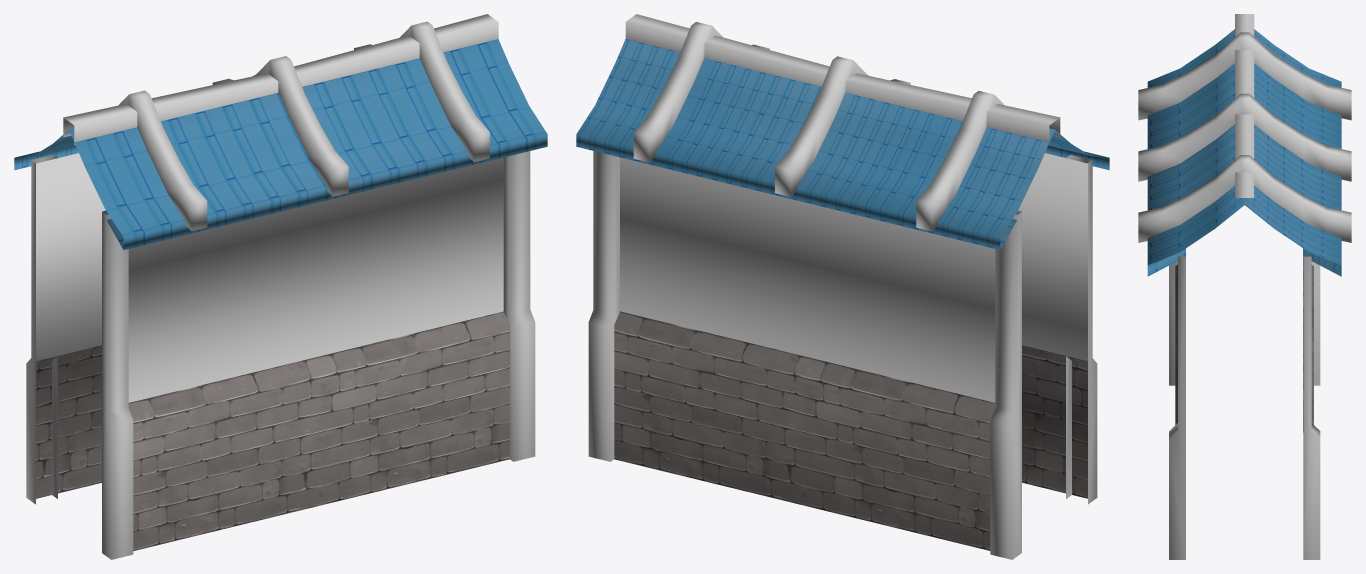
The model's file is GardenWall_3_1.fbx.
The picture shows the model from 3 angles, left to right: view 1: azimuth 30°, elevation 25°; view 2: azimuth 150°, elevation 25°; view 3: azimuth 270°, elevation 25°; orthographic projection. The views are drawn at different scales.
Parts seen in each view (by area): view 1: GardenWall_3_1; view 2: GardenWall_3_1; view 3: GardenWall_3_1.
Part boxes in pixels (<box>): GardenWall_3_1: <box>14,14,547,559</box>; GardenWall_3_1: <box>576,14,1109,559</box>; GardenWall_3_1: <box>1138,14,1351,559</box>.
Size of the model in its own units: 3 by 2.82 by 1.47.
